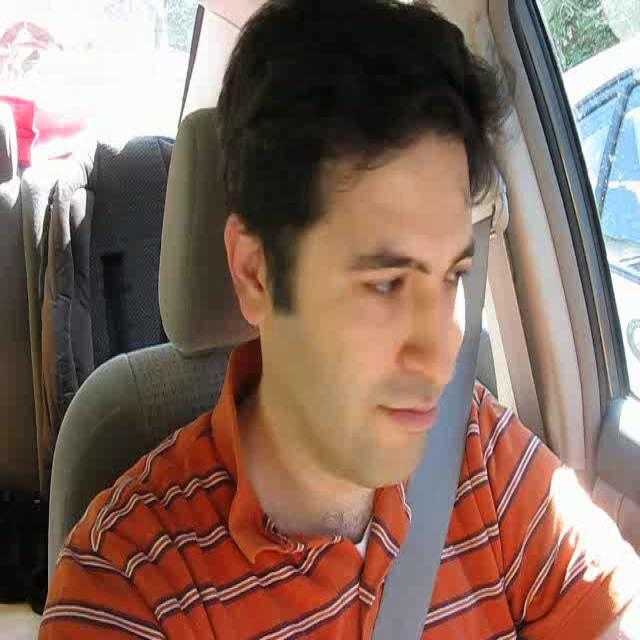close: (376, 398, 438, 434)
